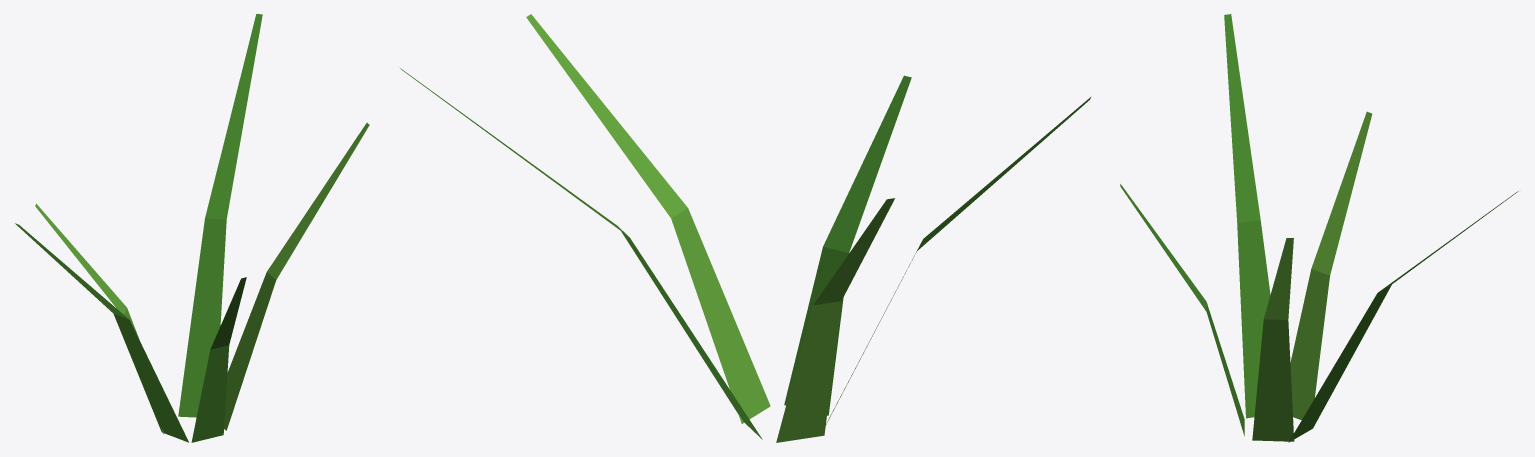
Rendered from grass_tuft.glb.
The picture shows the model from 3 angles, left to right: view 1: azimuth 30°, elevation 25°; view 2: azimuth 150°, elevation 25°; view 3: azimuth 270°, elevation 25°; orthographic projection. The views are drawn at different scales.
Parts seen in each view (by area): view 1: GrassTuft; view 2: GrassTuft; view 3: GrassTuft.
Part boxes in pixels (bbox=[...]): GrassTuft: bbox=[15, 14, 369, 442]; GrassTuft: bbox=[400, 14, 1091, 442]; GrassTuft: bbox=[1120, 14, 1518, 442].
Bounding box in the file's own units: 0.4012 × 0.2964 × 0.3234.
